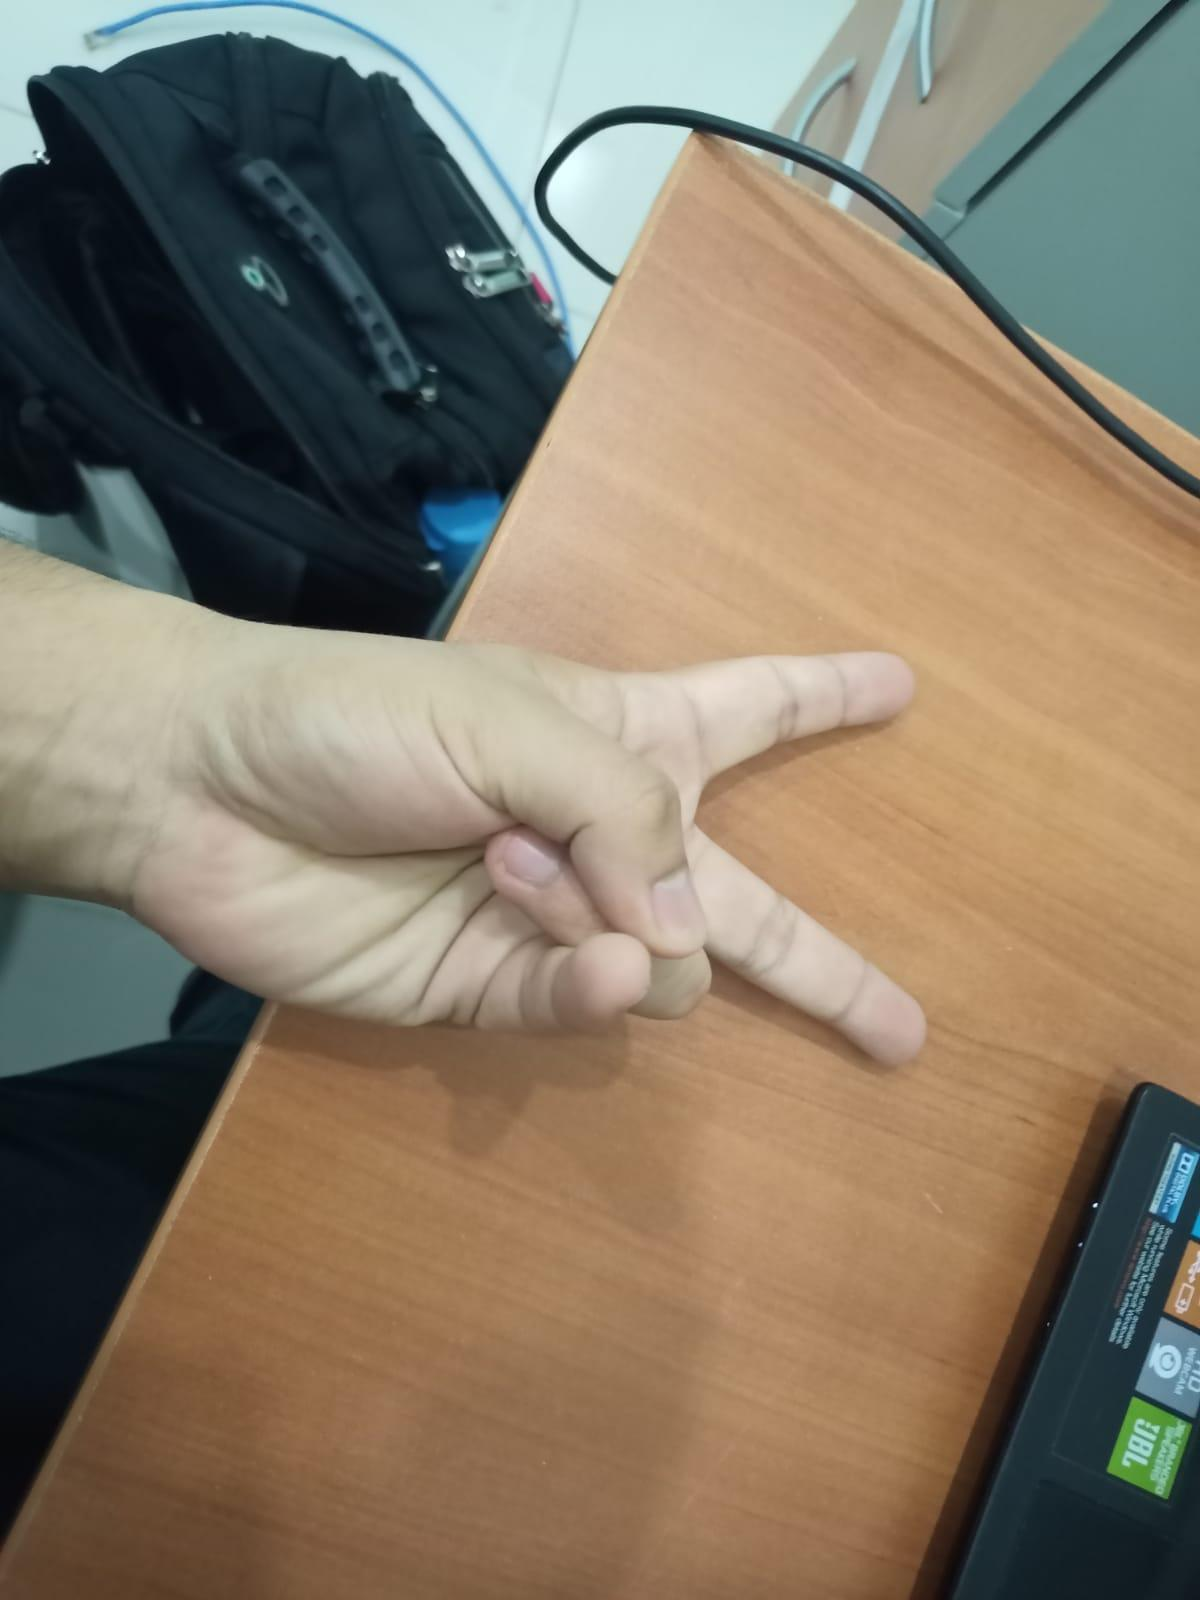Scissor: (172, 562, 970, 1110)
